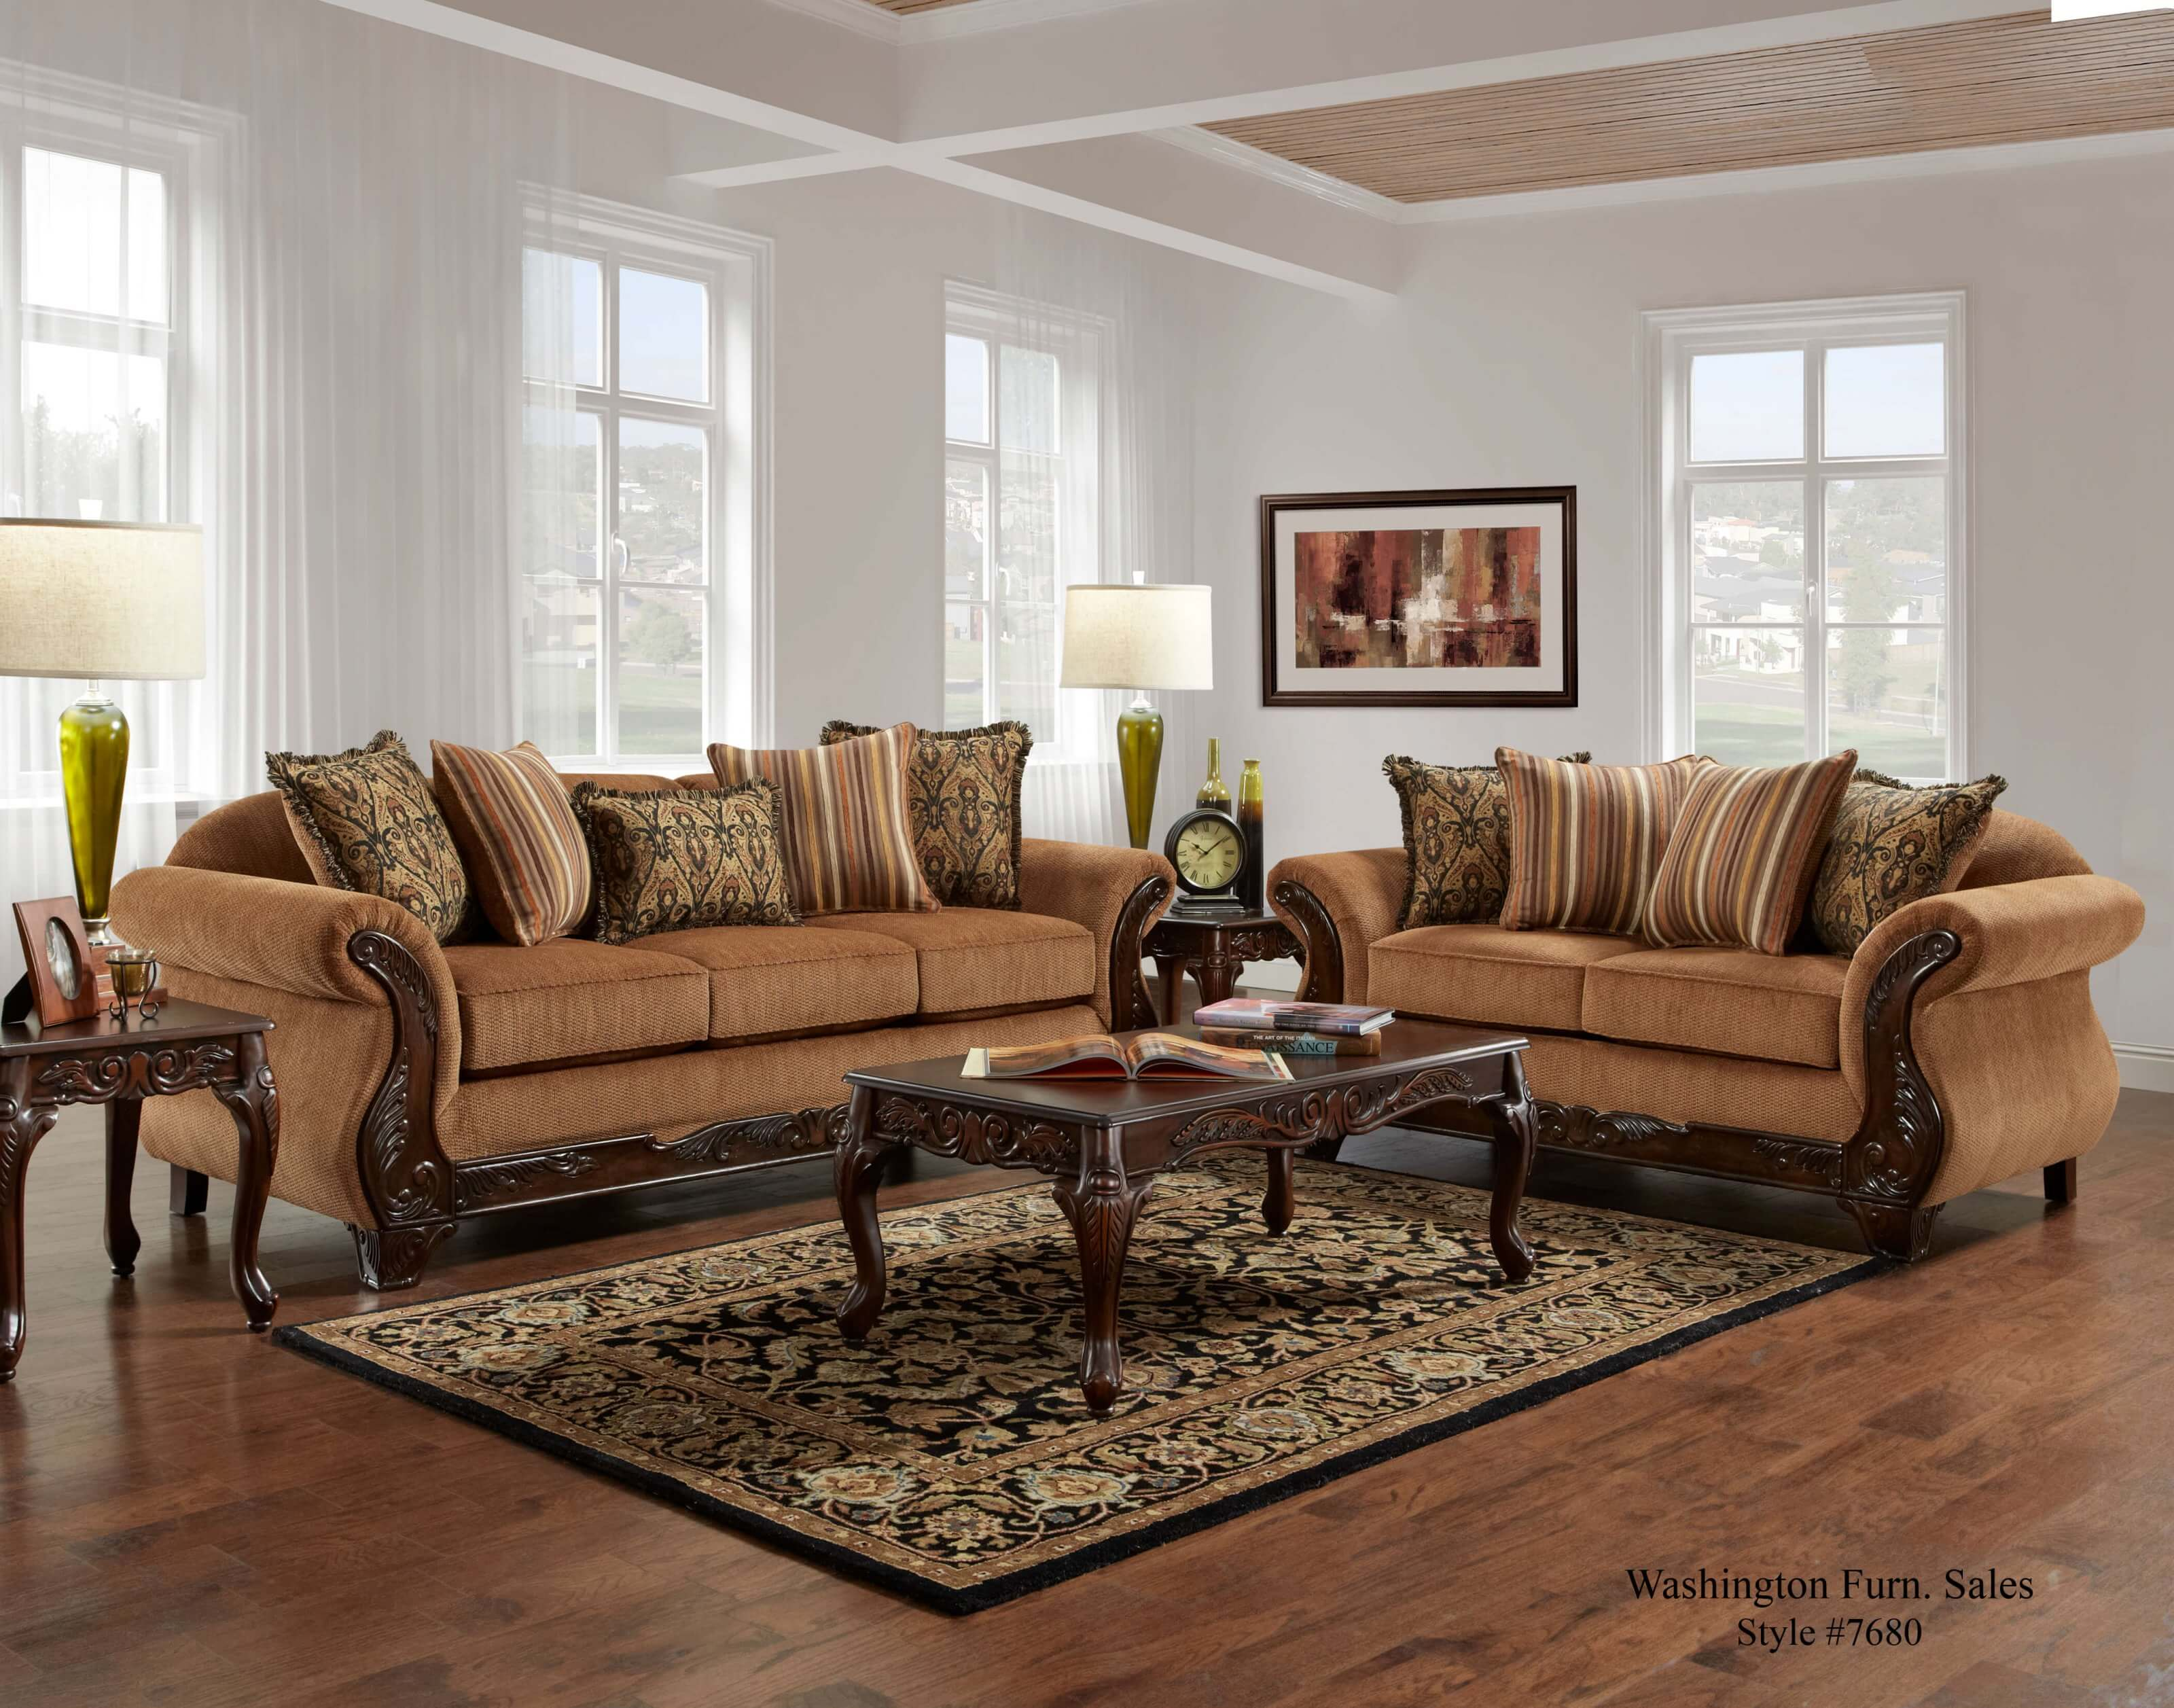chairs: (102, 674, 1182, 1286), (1272, 760, 2139, 1300)
